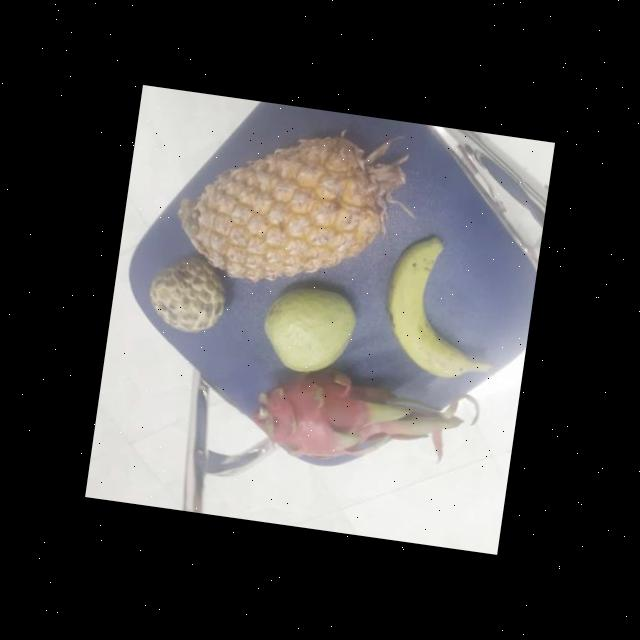Sakya fruit: (143, 250, 239, 337)
banana: (378, 233, 501, 382)
guava: (258, 284, 362, 378)
pineapple: (181, 122, 406, 299)
pitaya: (248, 362, 401, 475)
